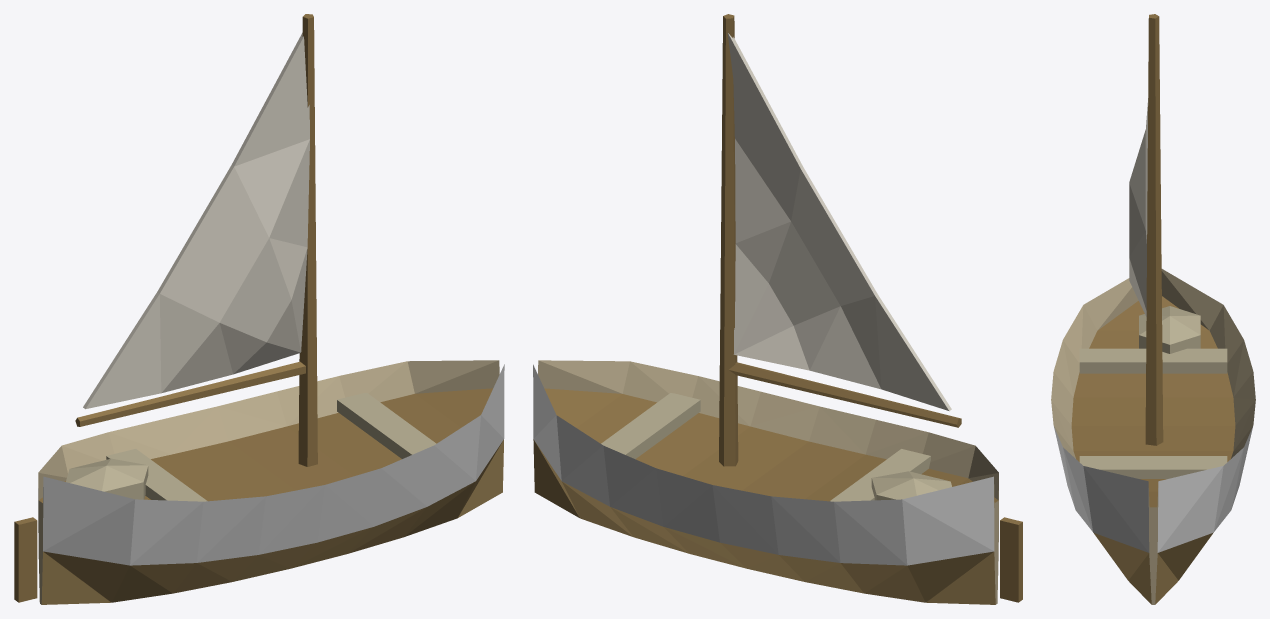
Rendered from dory.atoll.glb.
3 views of the same model, side by side, from view 1: azimuth 30°, elevation 25°; view 2: azimuth 150°, elevation 25°; view 3: azimuth 270°, elevation 25° (orthographic). The views are drawn at different scales.
Parts seen in each view (by area): view 1: trim, sail, hull, mast; view 2: trim, sail, hull, mast; view 3: trim, hull, mast, sail.
Boxes of the visible parts, box(x1,y1,x2,y2) form: trim: box(14, 360, 503, 604); sail: box(83, 32, 309, 409); hull: box(43, 364, 504, 565); mast: box(75, 14, 317, 466); trim: box(533, 360, 1022, 604); sail: box(727, 33, 951, 411); hull: box(533, 364, 994, 565); mast: box(719, 14, 961, 466); trim: box(1051, 269, 1255, 604); hull: box(1054, 427, 1252, 552); mast: box(1145, 14, 1163, 445); sail: box(1129, 98, 1148, 316).
Bounding box in the file's own units: 1.3 × 1.36 × 0.5.
